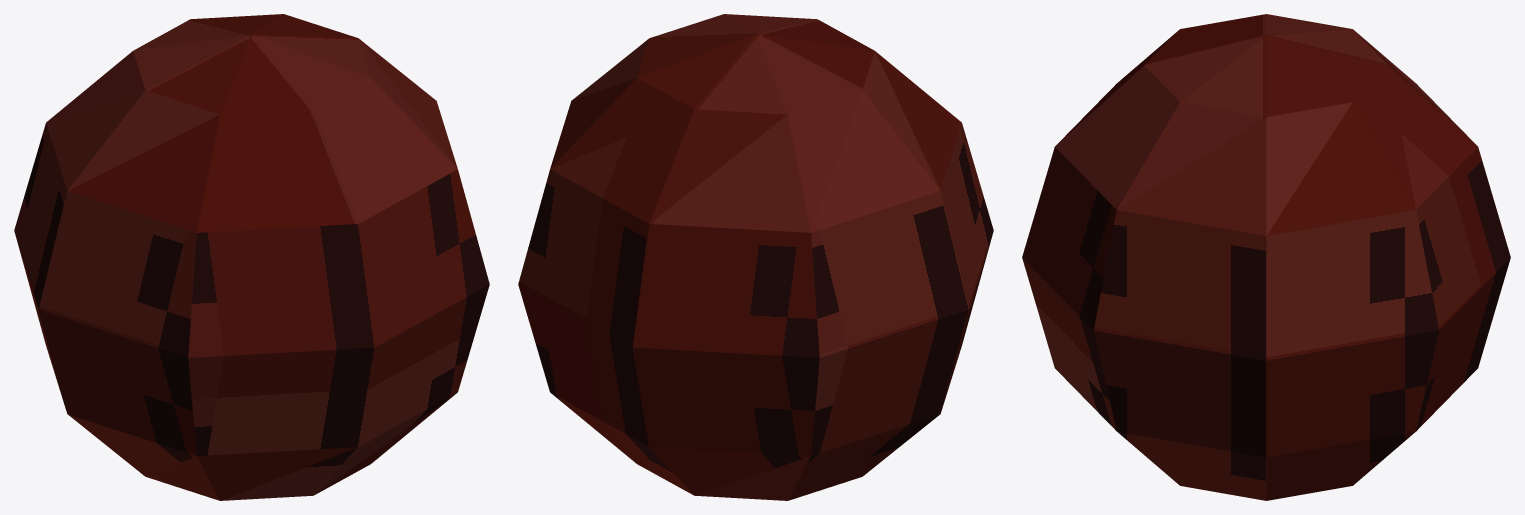
The model's file is deadzone_chembrane_ruin_warning.obj.
3 views of the same model, side by side, from view 1: azimuth 30°, elevation 25°; view 2: azimuth 150°, elevation 25°; view 3: azimuth 270°, elevation 25° (orthographic).
Size of the model in its own units: 0.44 by 0.44 by 0.44.
Materials: 1 (1 with a texture image).
